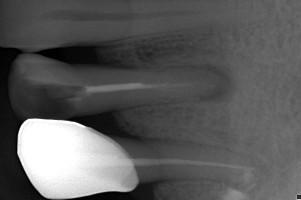Furcation Involvement: (183, 63, 238, 103)
